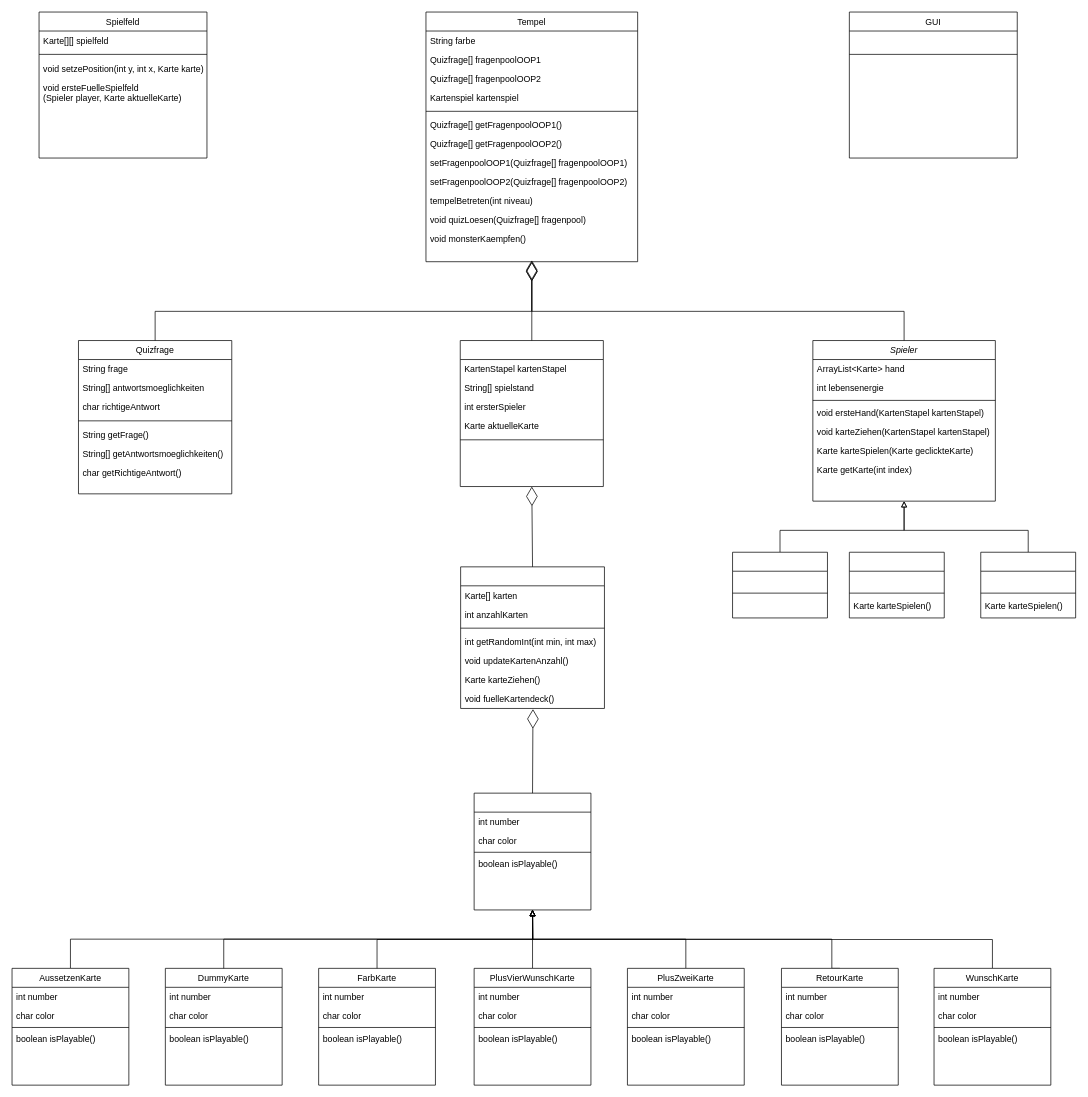
The diagram is 1088 pixels wide and 1097 high, and some of its shapes have lost their labels. The box of each missing label's shape, as (x1, y1, x2, y2) in pixels:
Held: (732, 552, 827, 618)
Karte: (473, 792, 591, 910)
Kartenspiel: (460, 340, 603, 487)
KartenStapel: (460, 566, 604, 708)
KISchlau: (849, 552, 944, 618)
KIZufall: (980, 552, 1076, 618)
